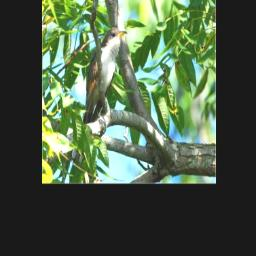Cuckoo: (82, 26, 127, 123)
